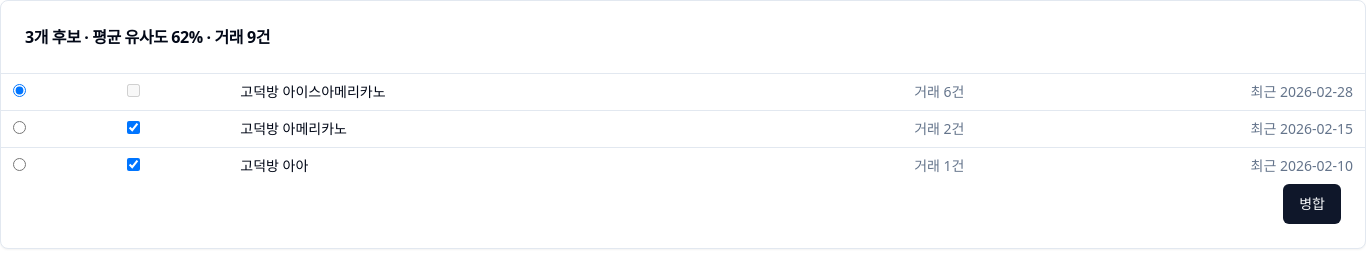
Test: ClusterCard › 흡수 0개면 병합 버튼 disabled
# 기본은 나머지 흡수 ON. 두 흡수 체크 해제.
Click the checkbox named "흡수: 고덕방 아메리카노".
click(133, 128)  # box x1=127 y1=121 x2=140 y2=134
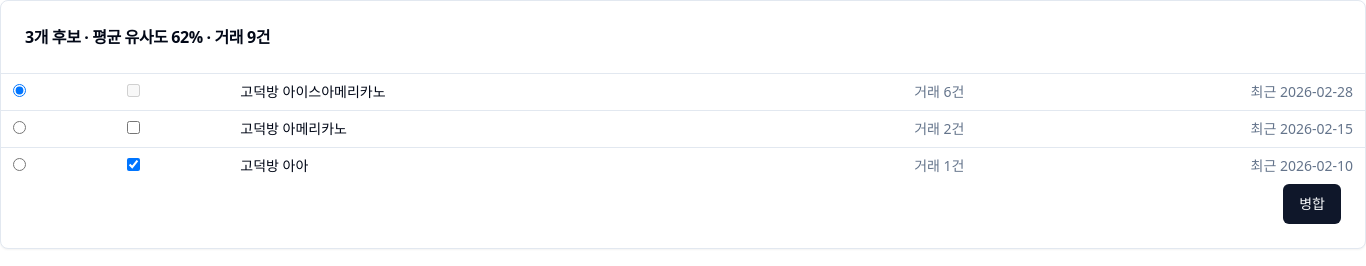
Click the checkbox named "흡수: 고덕방 아아".
click(133, 164)  # box x1=127 y1=158 x2=140 y2=171
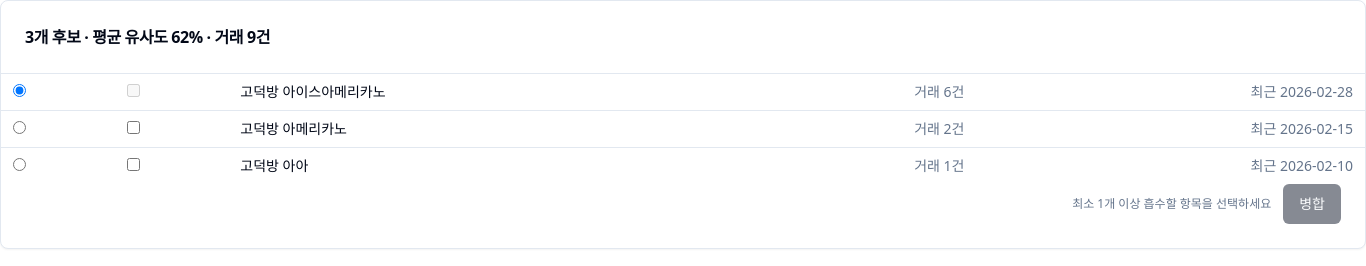
Check: the button "병합" is disabled, box x1=1283 y1=184 x2=1341 y2=224
